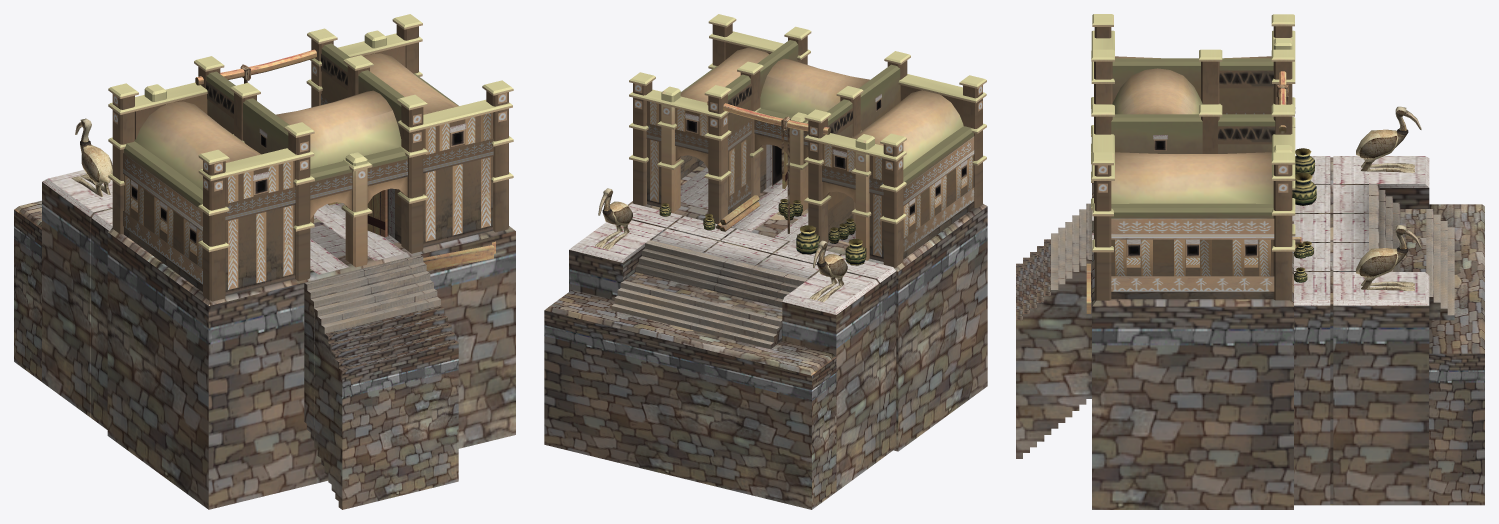
File: kush_dock.glb
The picture shows the model from 3 angles, left to right: view 1: azimuth 30°, elevation 25°; view 2: azimuth 150°, elevation 25°; view 3: azimuth 270°, elevation 25°; orthographic projection. The views are drawn at different scales.
Parts seen in each view (by area): view 1: kush_dock_part0, kush_dock_part1; view 2: kush_dock_part0, kush_dock_part1, kush_dock_part2; view 3: kush_dock_part0, kush_dock_part2, kush_dock_part1.
Boxes of the visible parts, x1=… form: kush_dock_part0: x1=14, y1=14, x2=515, y2=509; kush_dock_part1: x1=71, y1=118, x2=112, y2=196; kush_dock_part0: x1=544, y1=14, x2=987, y2=509; kush_dock_part1: x1=809, y1=240, x2=847, y2=302; kush_dock_part2: x1=595, y1=188, x2=632, y2=249; kush_dock_part0: x1=1016, y1=14, x2=1484, y2=509; kush_dock_part2: x1=1356, y1=225, x2=1421, y2=290; kush_dock_part1: x1=1356, y1=106, x2=1421, y2=172.
Size of the model in its own units: 3.62 by 4 by 4.8.
Materials: 2 (2 with a texture image).
